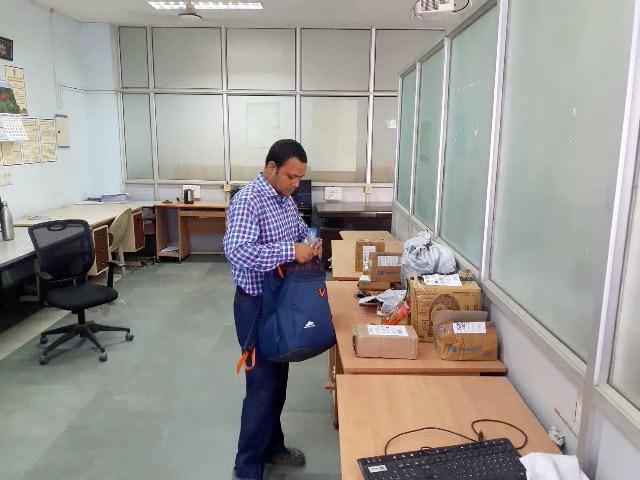shoplifting: (214, 220, 386, 371)
